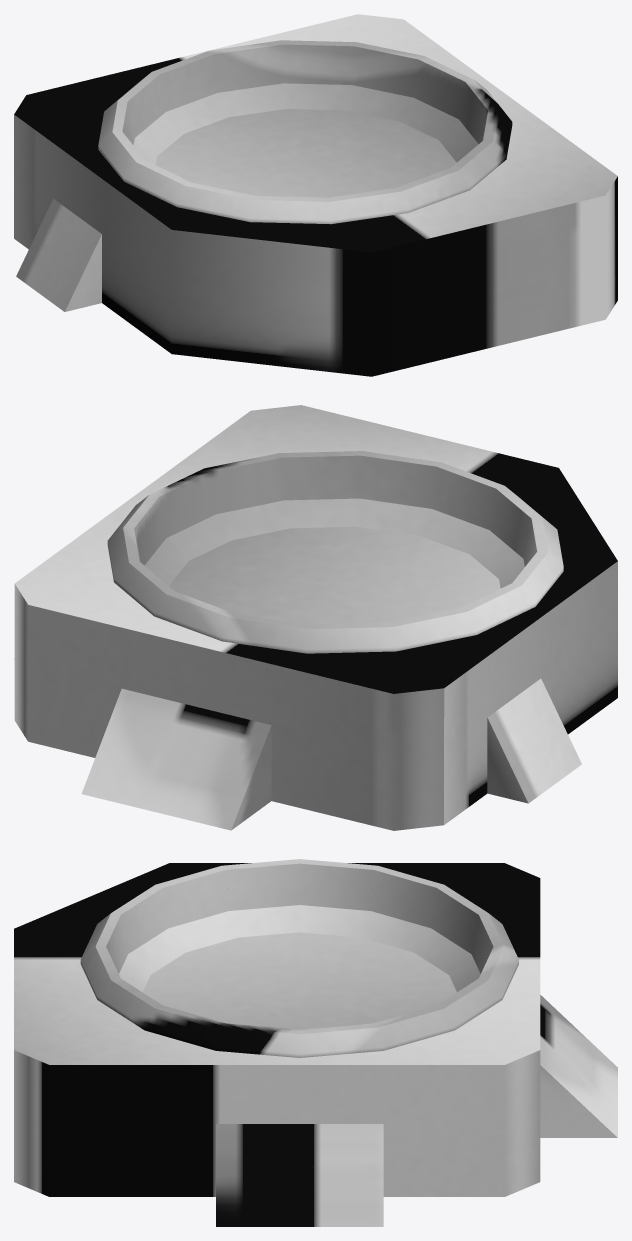
Rendered from WF_top_went.fbx.
3 views of the same model, one above another, from view 1: azimuth 30°, elevation 25°; view 2: azimuth 150°, elevation 25°; view 3: azimuth 270°, elevation 25° (orthographic). The views are drawn at different scales.
Visible parts, largest first — view 1: WF_top_went; view 2: WF_top_went; view 3: WF_top_went.
Boxes of the visible parts, bbox=[...] form: WF_top_went: bbox=[14, 14, 617, 376]; WF_top_went: bbox=[14, 405, 617, 830]; WF_top_went: bbox=[14, 859, 617, 1226].
Size of the model in its own units: 37.79 by 10.48 by 38.4.
